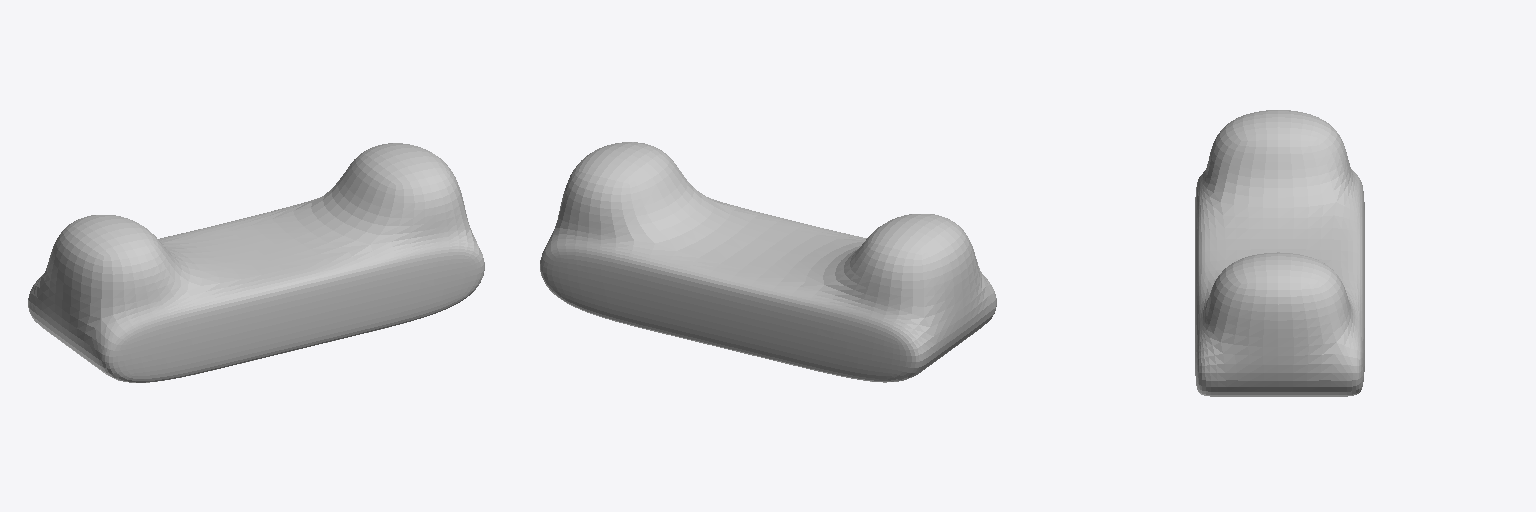
The model's file is phone1.obj.
3 views of the same model, side by side, from view 1: azimuth 30°, elevation 25°; view 2: azimuth 150°, elevation 25°; view 3: azimuth 270°, elevation 25° (orthographic).
Visible parts, largest first — view 1: Phone_Cube.005; view 2: Phone_Cube.005; view 3: Phone_Cube.005.
Boxes of the visible parts, x1,y1,x2,y2 form: Phone_Cube.005: [28, 143, 484, 382]; Phone_Cube.005: [540, 142, 996, 382]; Phone_Cube.005: [1195, 110, 1364, 396].
Bounding box in the file's own units: 0.5699 × 0.1883 × 0.2163.